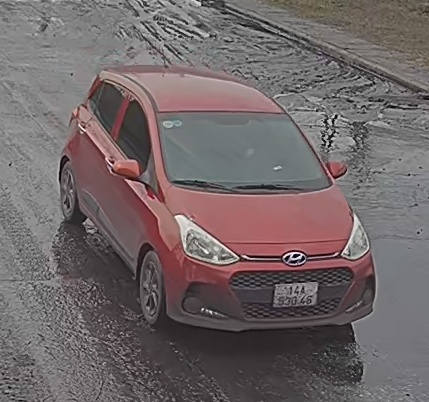vehicle plate: (270, 279, 320, 312)
